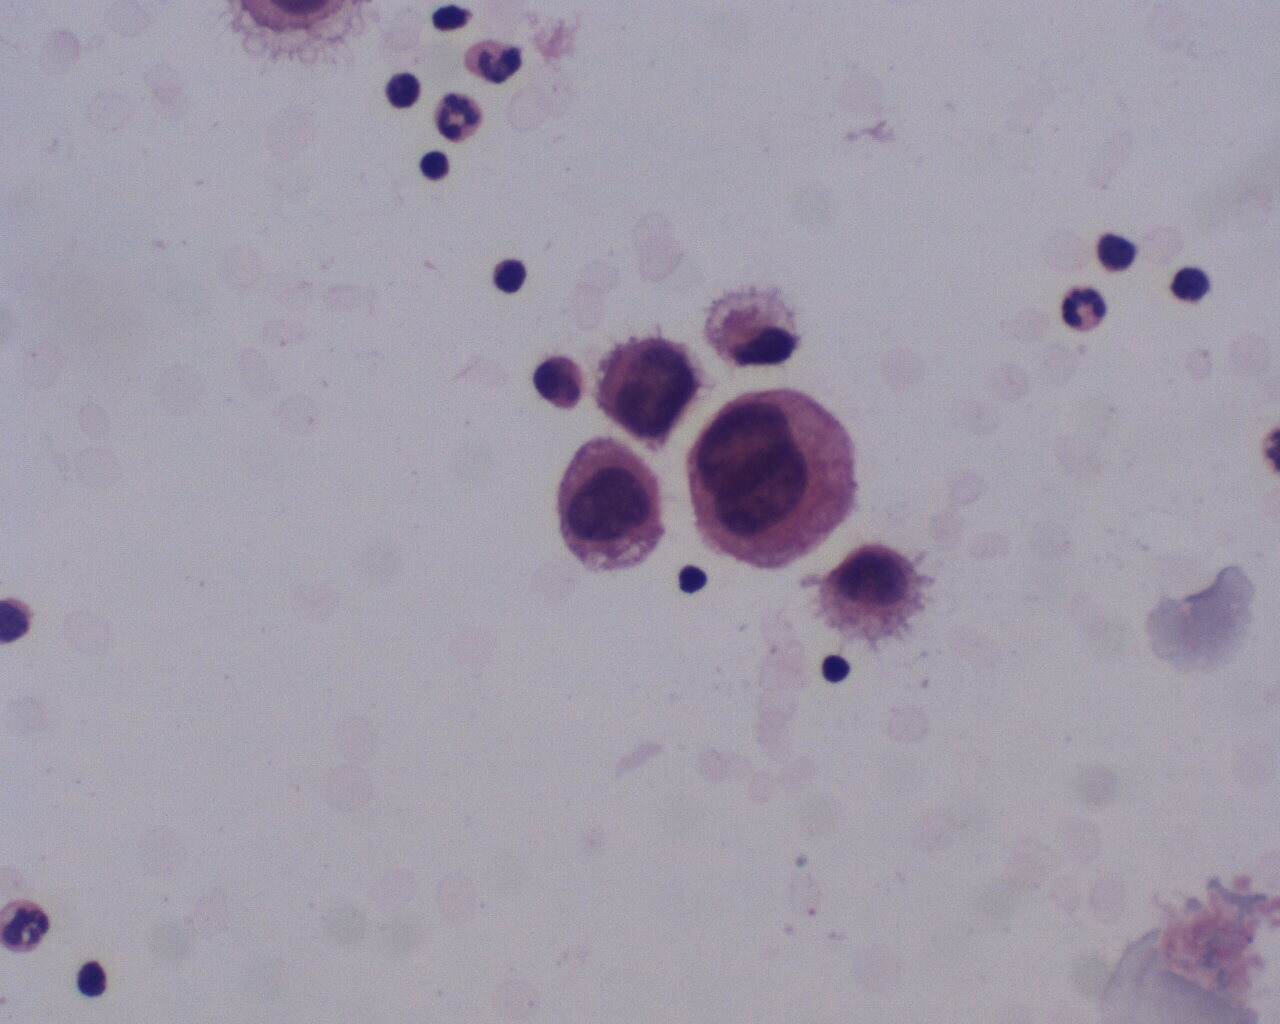ab: (686, 374, 867, 574), (542, 434, 675, 578), (591, 319, 698, 444)
lymph: (488, 252, 534, 299), (412, 141, 453, 185), (818, 647, 854, 692)
neutro: (429, 85, 490, 147), (1058, 280, 1113, 338)
